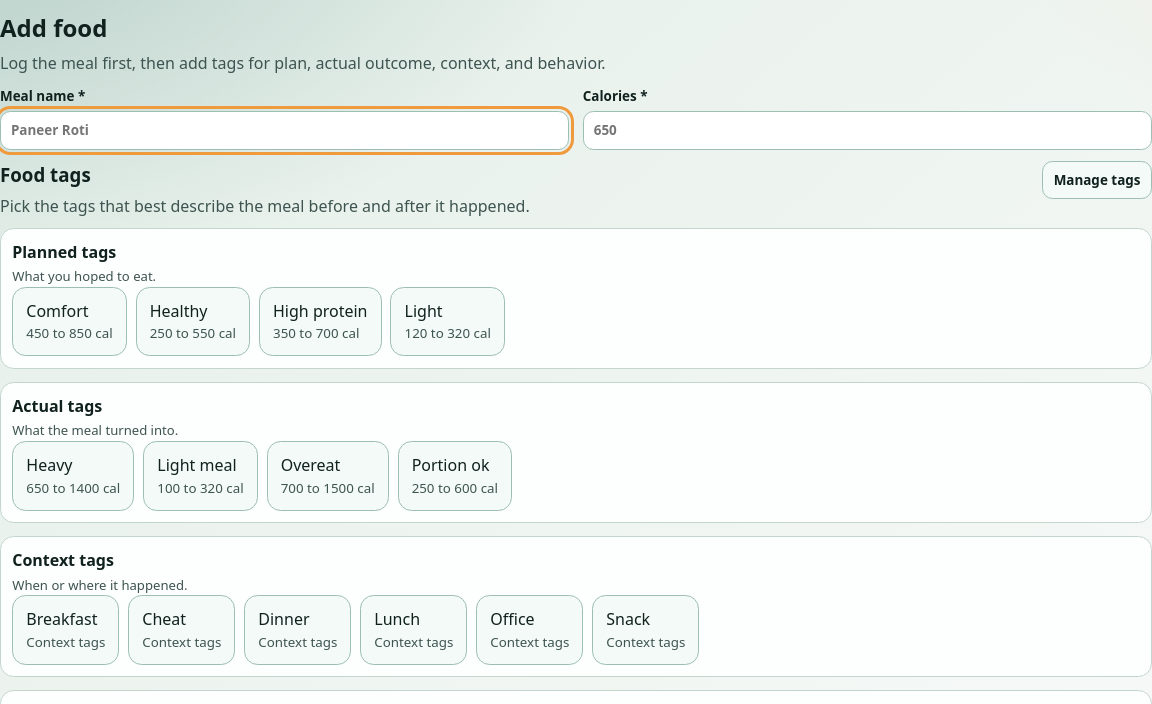
it: Reading forms › rejects a blank food meal name
Type "250" into the number field labelled "Calories *".
click(867, 130); type("250")  # box [583,110,1151,150]
(page scrolled)
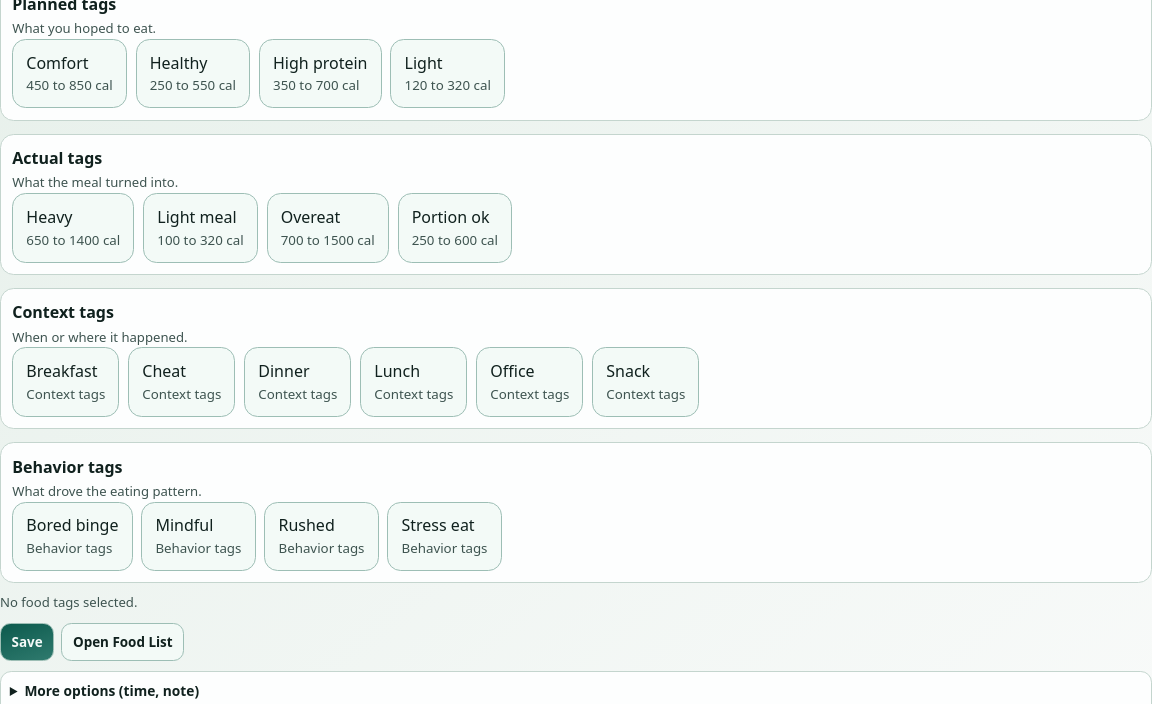
Click the button "Save".
click(27, 642)  # box [0,623,54,661]
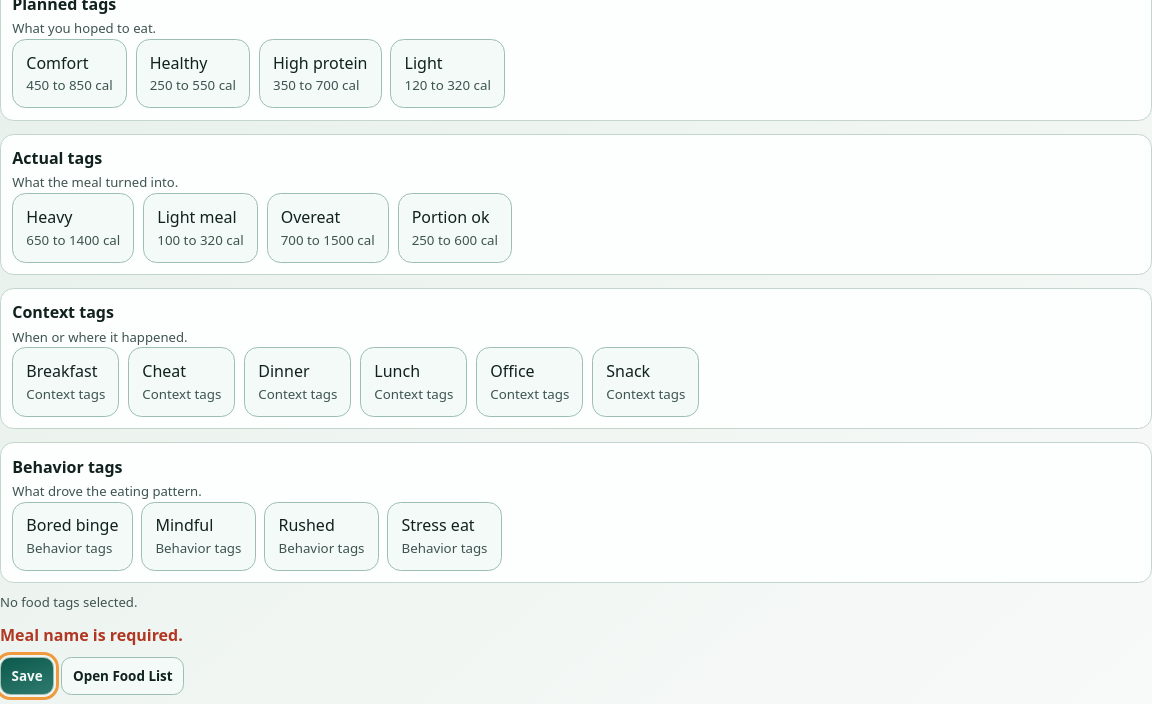
Now the text "Meal name is required." is shown, box [0,624,183,646]
